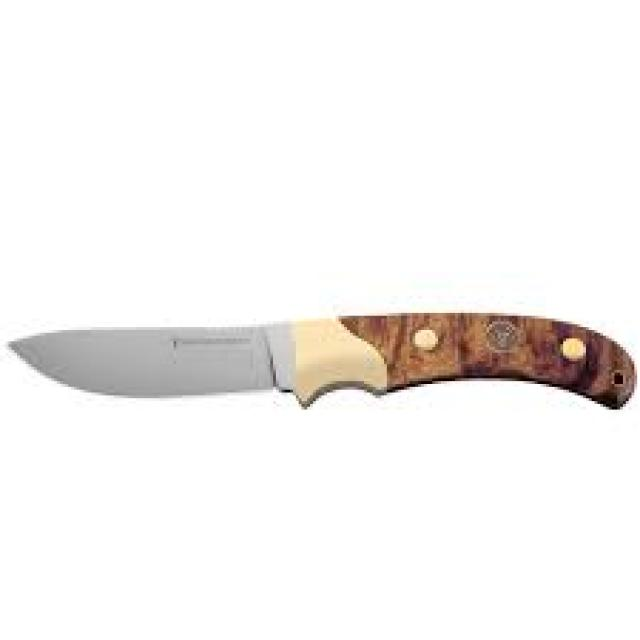knife: (7, 312, 634, 413)
